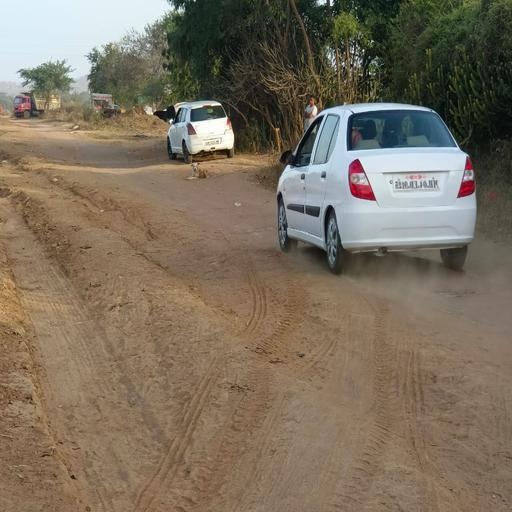vehicle_track: (114, 222, 512, 512), (0, 195, 241, 512), (130, 245, 335, 512), (323, 284, 457, 512), (74, 139, 275, 248)
